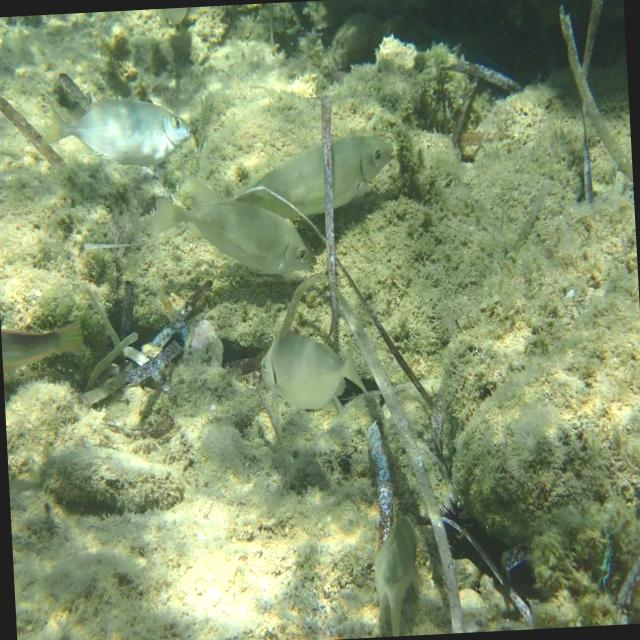Sokar Baligi: (32, 72, 194, 185)
